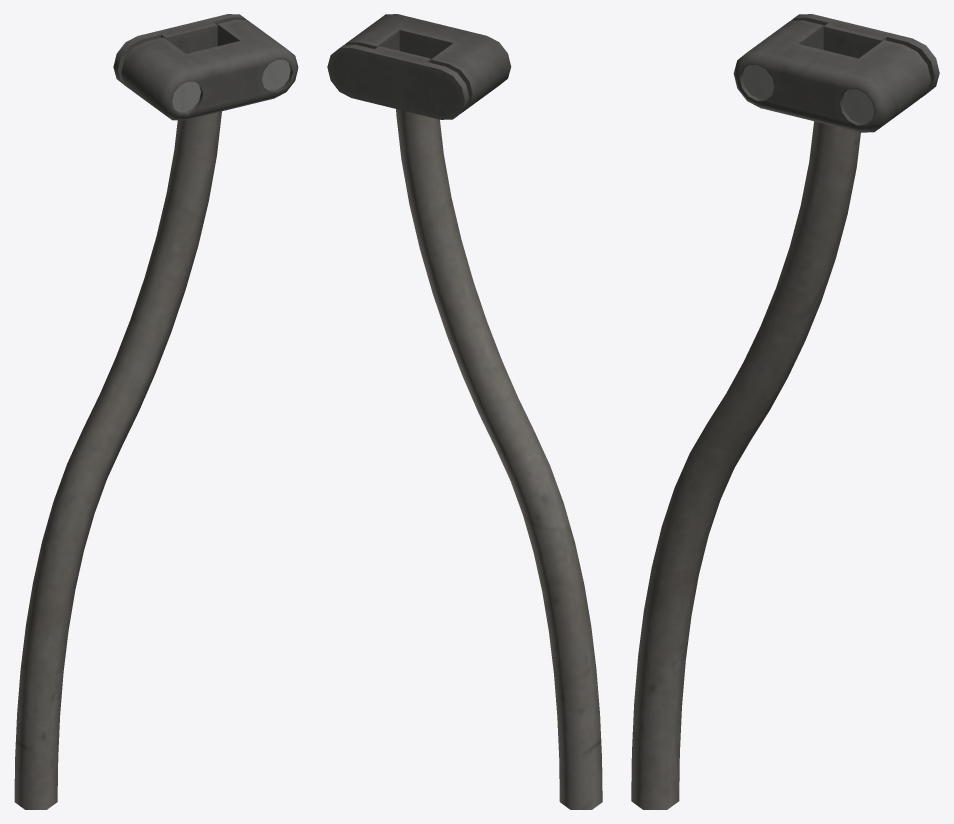
Rendered from cable_scurve_3.glb.
3 renders of one model, left to right at view 1: azimuth 30°, elevation 25°; view 2: azimuth 150°, elevation 25°; view 3: azimuth 330°, elevation 25°, orthographic. The views are drawn at different scales.
Parts seen in each view (by area): view 1: cable_scurve_3.001; view 2: cable_scurve_3.001; view 3: cable_scurve_3.001.
Part boxes in pixels (box(x1,y1,x2,y2)): cable_scurve_3.001: box(14, 14, 298, 809); cable_scurve_3.001: box(327, 14, 602, 809); cable_scurve_3.001: box(631, 14, 939, 809).
Bounding box in the file's own units: 0.0757 × 0.2073 × 0.0259.
Materials: 1 (1 with a texture image).
